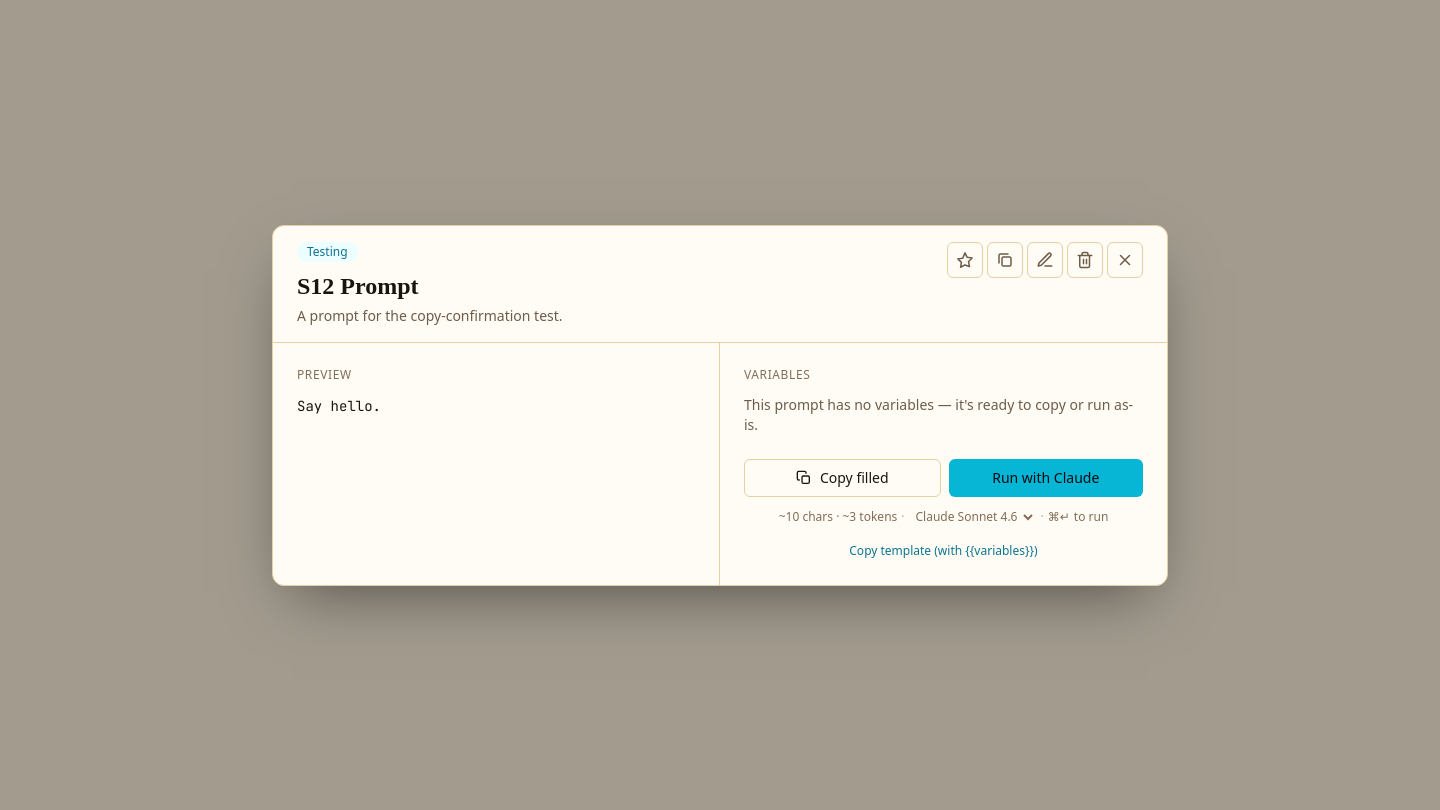
PromptDetail — S12: copy-confirmation flourish (B2) › secondary Copy template gains the same confirmation (L4-1)
Click the button with aria-label "Copy the prompt template with unfilled variables" at [944, 550], box [849,542,1038,558]
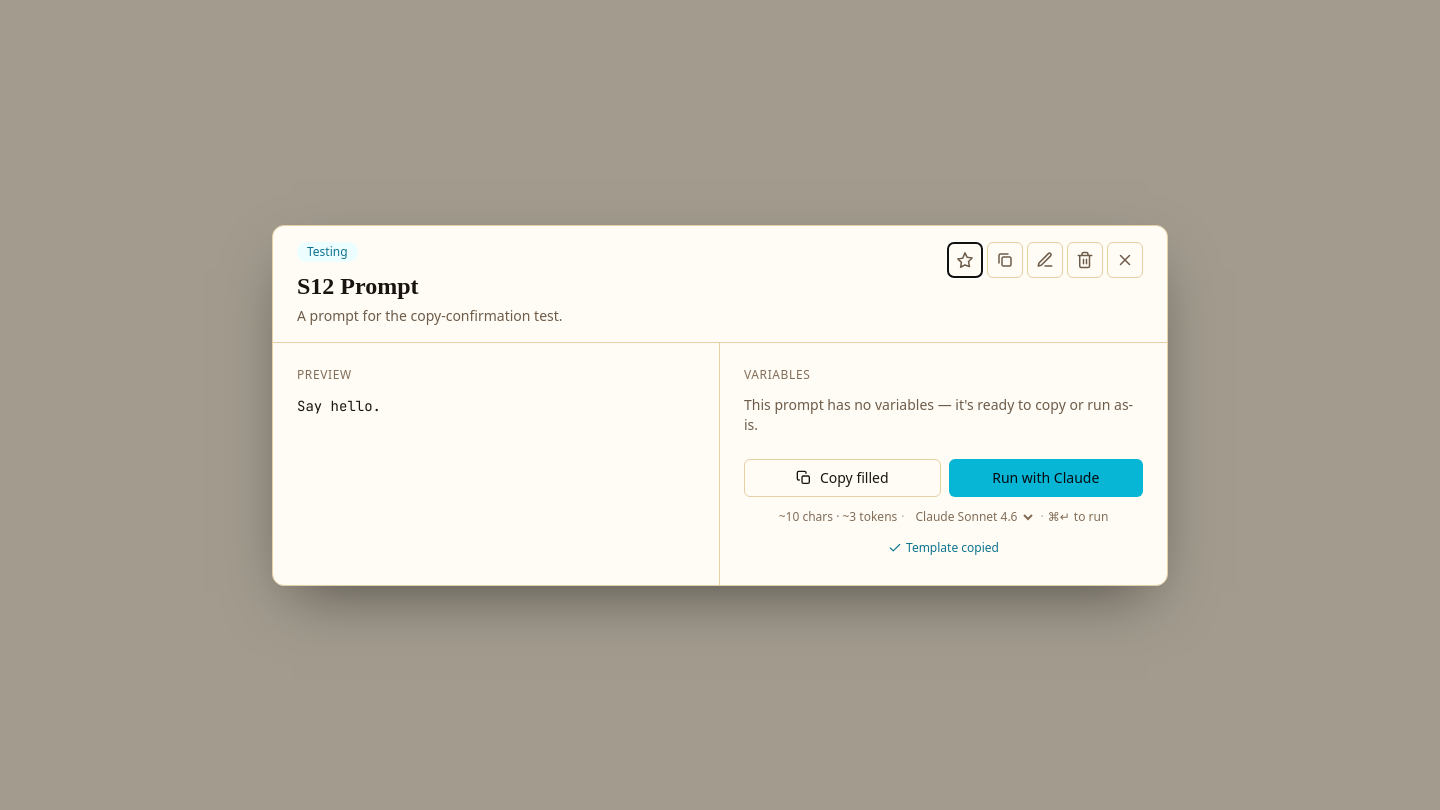
Expected: the button "Template copied" is shown, [888,540,999,556]
